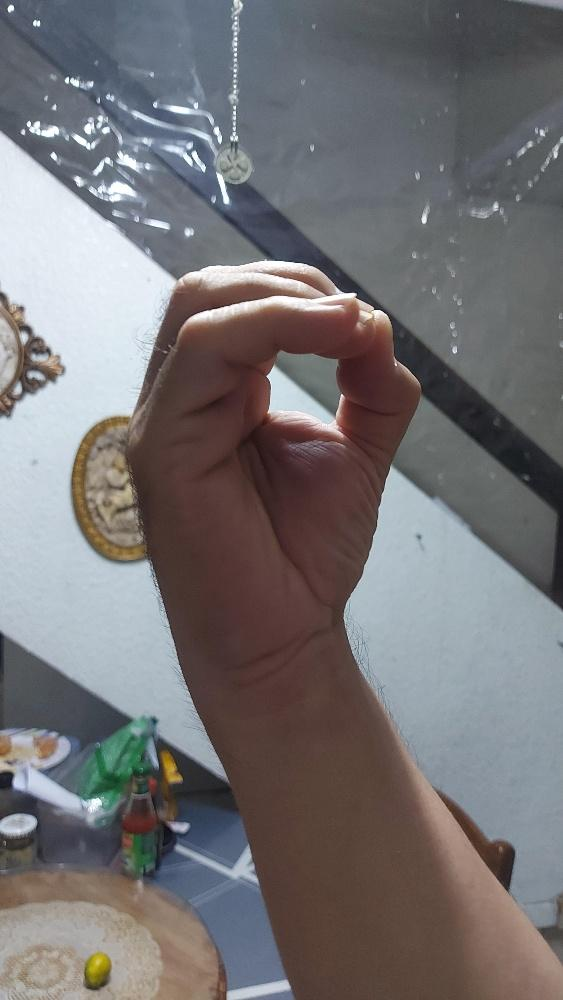o: (124, 258, 421, 677)
